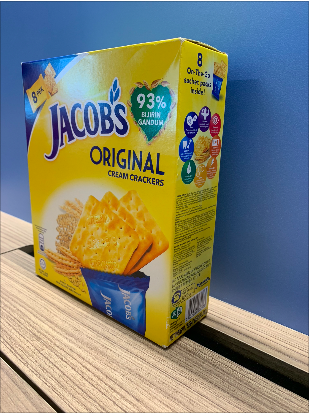Crackers_200-299g: (36, 75, 197, 288)
